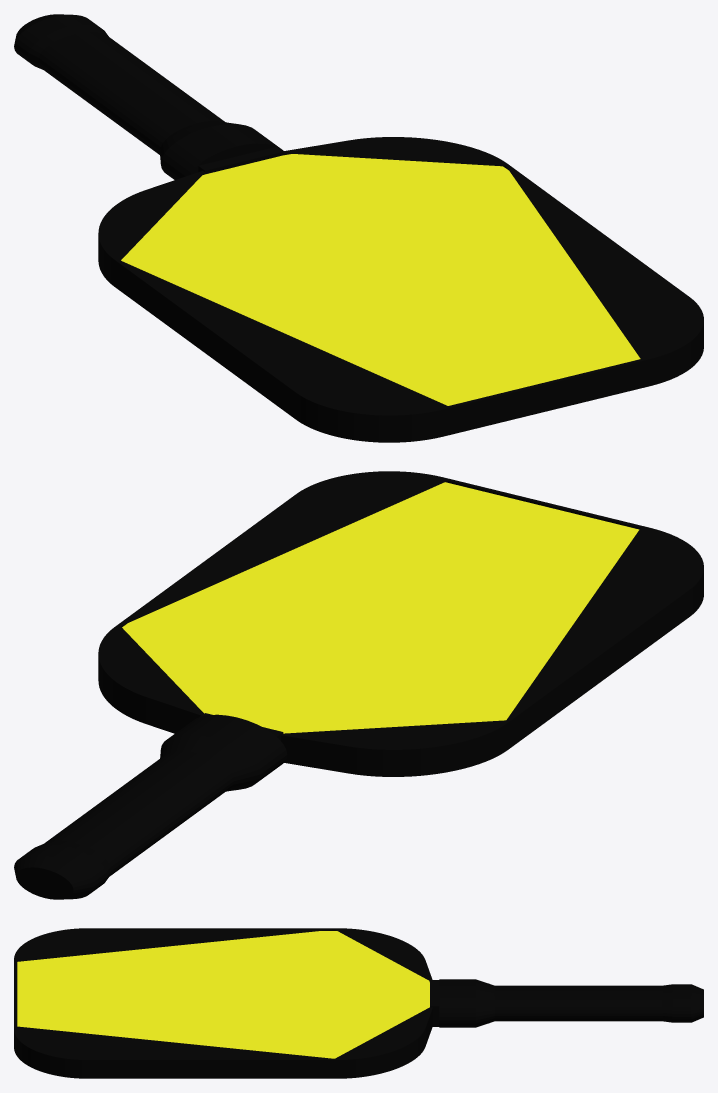
File: pickleball_racket.fbx
The picture shows the model from 3 angles, top to bottom: view 1: azimuth 30°, elevation 25°; view 2: azimuth 150°, elevation 25°; view 3: azimuth 270°, elevation 25°; orthographic projection. The views are drawn at different scales.
Parts seen in each view (by area): view 1: racket; view 2: racket; view 3: racket.
Boxes of the visible parts, bbox=[...] form: racket: bbox=[14, 14, 703, 442]; racket: bbox=[14, 471, 703, 899]; racket: bbox=[14, 928, 703, 1078].
Size of the model in its own units: 109 by 13.34 by 241.
